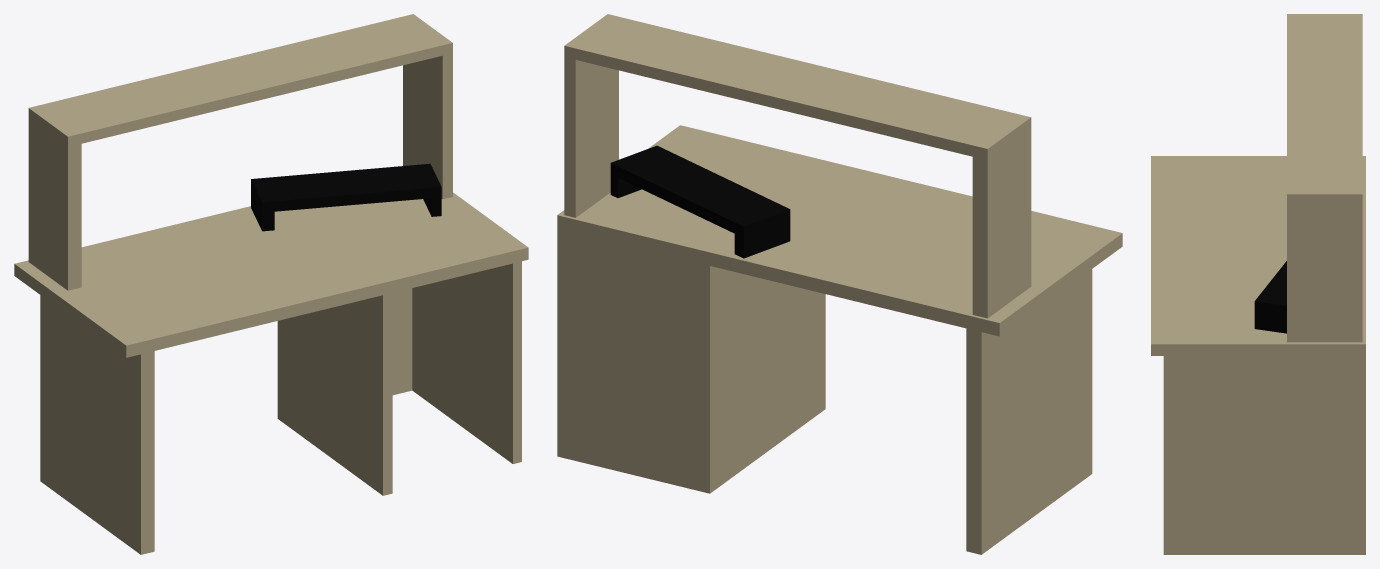
Rendered from Desk.gltf.
The picture shows the model from 3 angles, left to right: view 1: azimuth 30°, elevation 25°; view 2: azimuth 150°, elevation 25°; view 3: azimuth 270°, elevation 25°; orthographic projection. The views are drawn at different scales.
Parts seen in each view (by area): view 1: Desk, DeskUpper, MonitorStand; view 2: Desk, DeskUpper, MonitorStand; view 3: Desk, DeskUpper, MonitorStand.
Part boxes in pixels (x1,y1,x2,y2): Desk: (14, 192, 528, 554); DeskUpper: (28, 14, 452, 290); MonitorStand: (251, 163, 441, 231); Desk: (557, 125, 1122, 554); DeskUpper: (564, 14, 1031, 318); MonitorStand: (610, 145, 790, 258); Desk: (1151, 156, 1365, 554); DeskUpper: (1287, 14, 1362, 342); MonitorStand: (1254, 261, 1286, 333).
Size of the model in its own units: 11.52 by 10.21 by 5.55.
